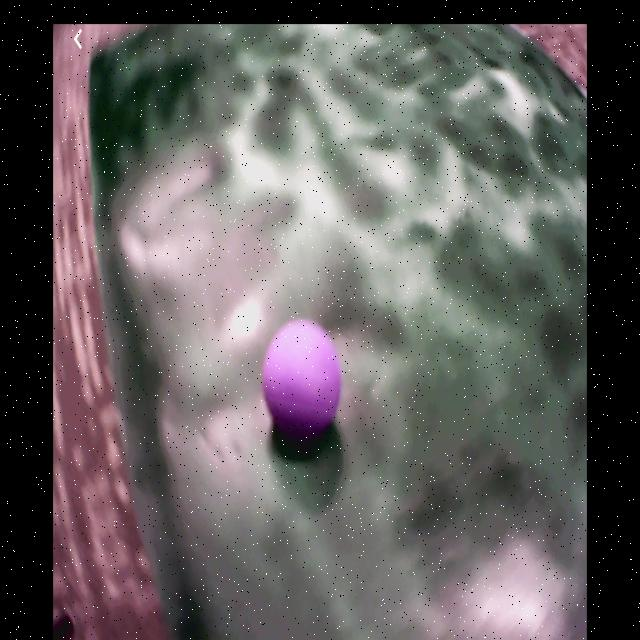ball: (262, 320, 340, 433)
